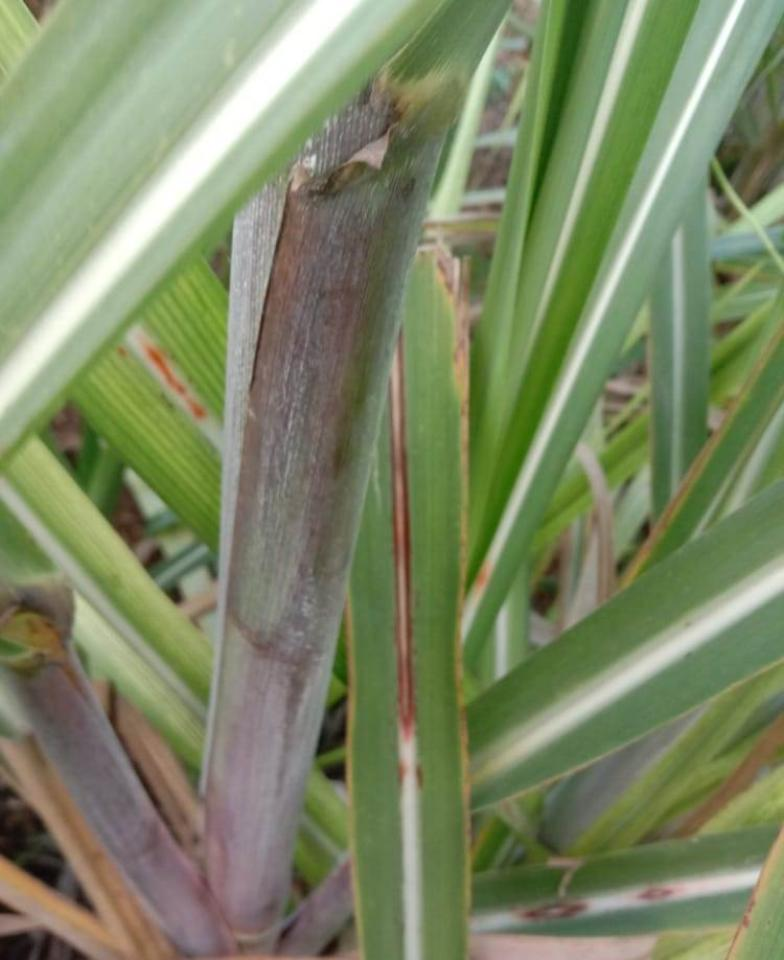RedRot: (388, 322, 427, 792), (142, 333, 206, 422), (512, 902, 589, 922), (630, 886, 683, 900), (472, 561, 491, 600)
